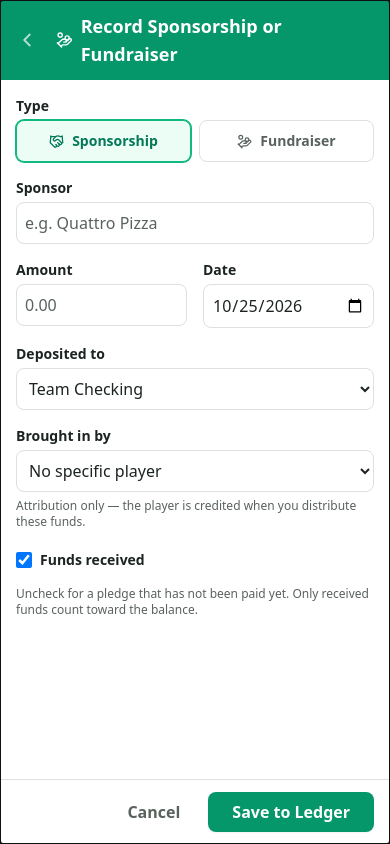
Scenario: RecordFundsModal › surfaces a save failure and keeps the modal open
The image size is (390, 844).
Type "Quattro Pizza" into the field labelled "Sponsor" at x=195, y=223, box left=16, top=202, right=374, bottom=244
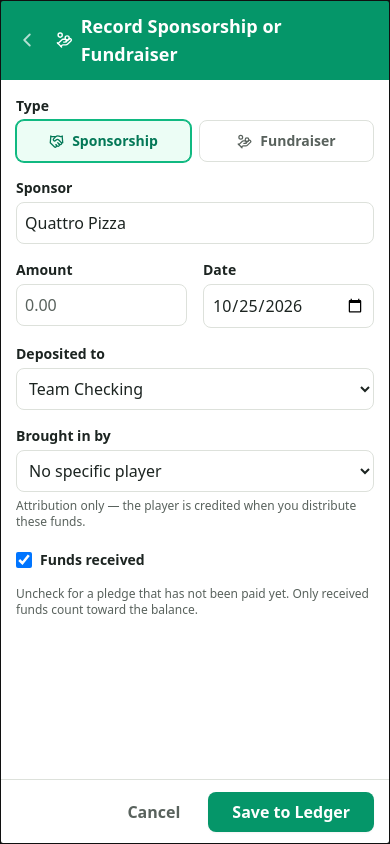
Type "500" into the number field labelled "Amount" at x=102, y=305, box left=16, top=284, right=187, bottom=326
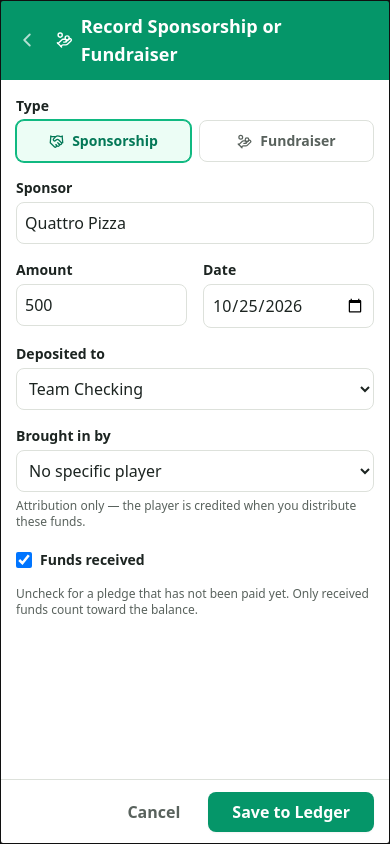
Click the button "Save to Ledger" at x=291, y=812, box left=208, top=792, right=374, bottom=832
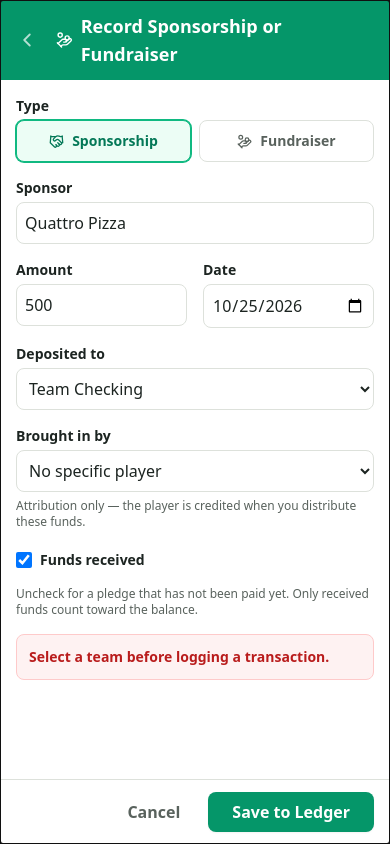
expect the text "Select a team before logging a transaction." is shown: met, box left=16, top=634, right=374, bottom=680
